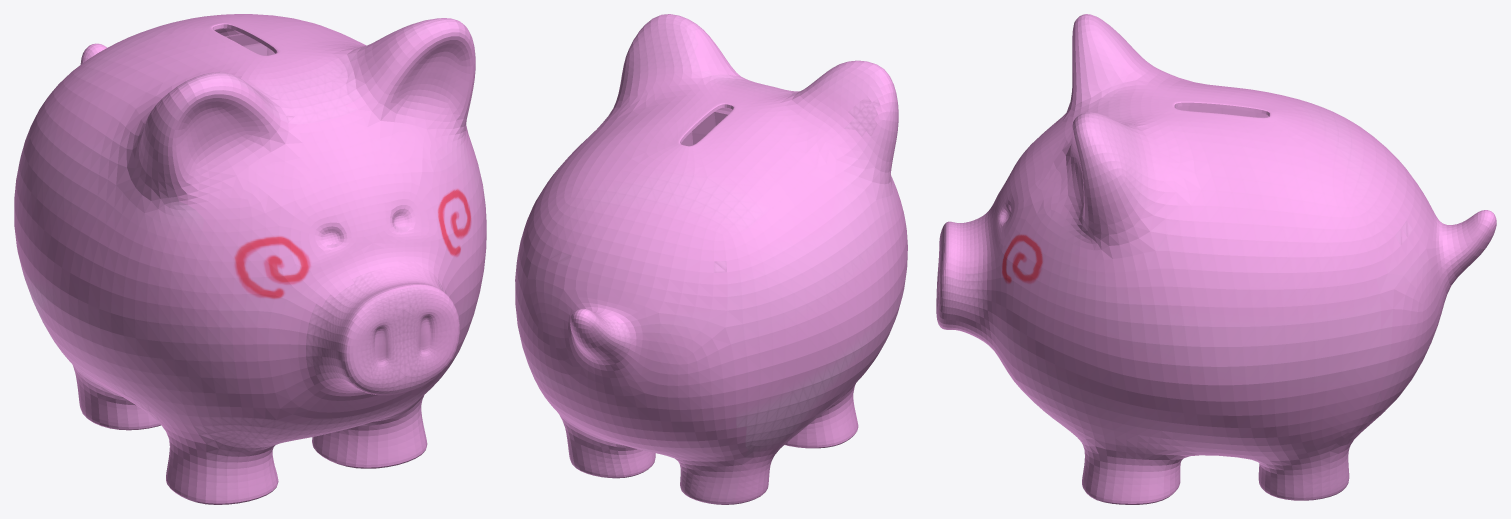
The model's file is PiggyBank.fbx.
3 renders of one model, left to right at view 1: azimuth 30°, elevation 25°; view 2: azimuth 150°, elevation 25°; view 3: azimuth 270°, elevation 25°, orthographic. The views are drawn at different scales.
Visible parts, largest first — view 1: PiggyBank; view 2: PiggyBank; view 3: PiggyBank.
Boxes of the visible parts, left/top/right/bottom form: PiggyBank: left=14, top=14, right=486, bottom=504; PiggyBank: left=515, top=14, right=907, bottom=504; PiggyBank: left=936, top=14, right=1496, bottom=504.
Bounding box in the file's own units: 15.3 × 16.26 × 21.41.
1 material, 1 textured.
